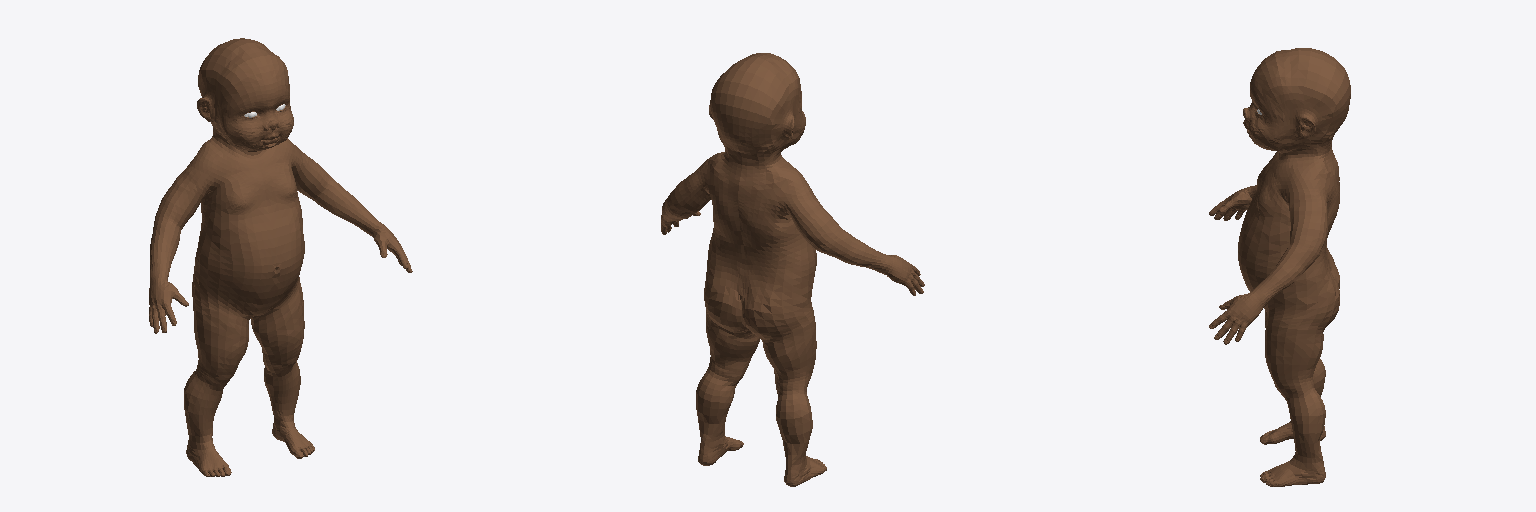
The model's file is baby.obj.
3 renders of one model, left to right at view 1: azimuth 30°, elevation 25°; view 2: azimuth 150°, elevation 25°; view 3: azimuth 270°, elevation 25°, orthographic.
Visible parts, largest first — view 1: base.obj; view 2: base.obj; view 3: base.obj.
Boxes of the visible parts, x1=… form: base.obj: x1=149, y1=38, x2=412, y2=476; base.obj: x1=661, y1=53, x2=924, y2=486; base.obj: x1=1209, y1=48, x2=1350, y2=486.
Bounding box in the file's own units: 3.53 × 5.39 × 1.69.